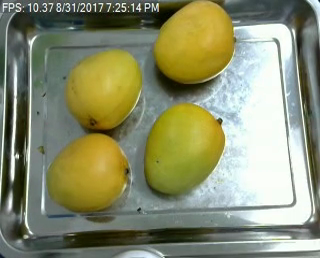Mango: (143, 104, 225, 193), (44, 133, 132, 212), (151, 0, 236, 81), (63, 47, 139, 130)
